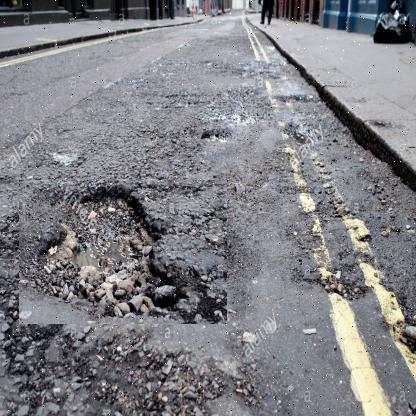pothole: (19, 180, 228, 325)
